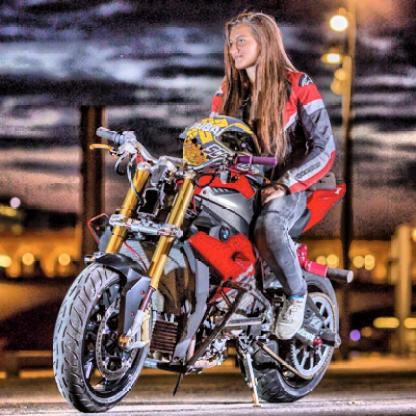not_wear: (230, 8, 277, 80)
